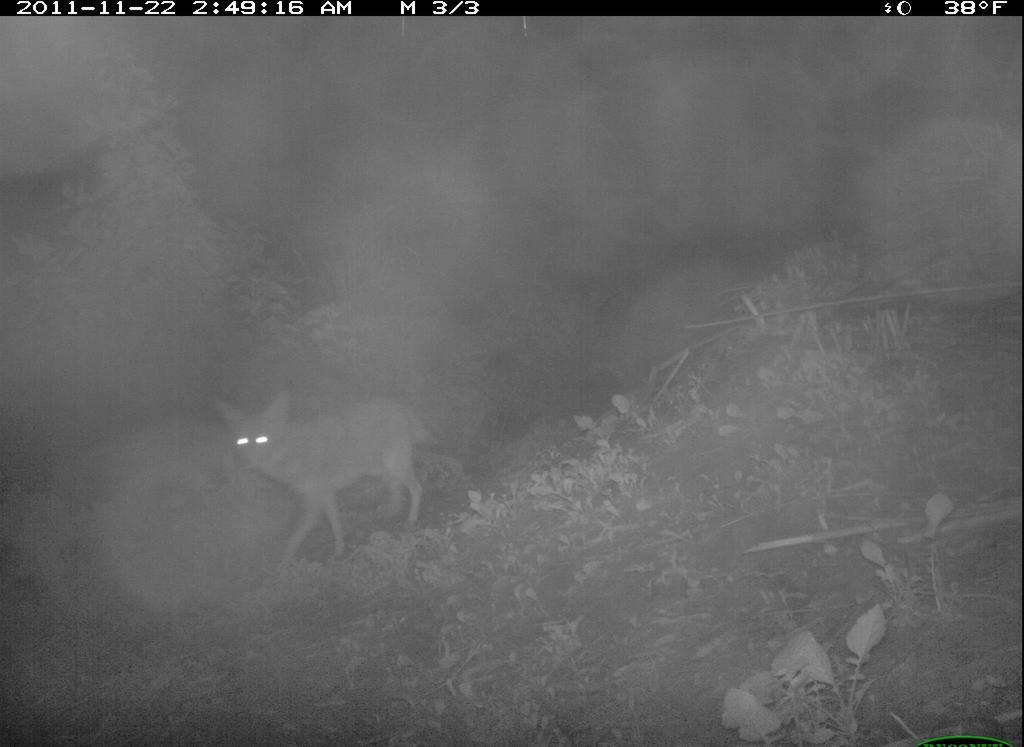coyote: (209, 372, 443, 564)
